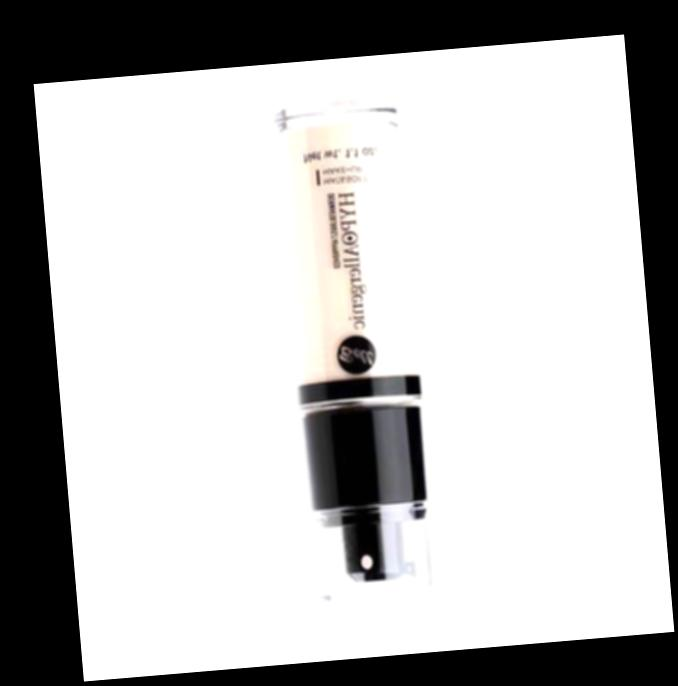cosmetic: (273, 94, 438, 604)
